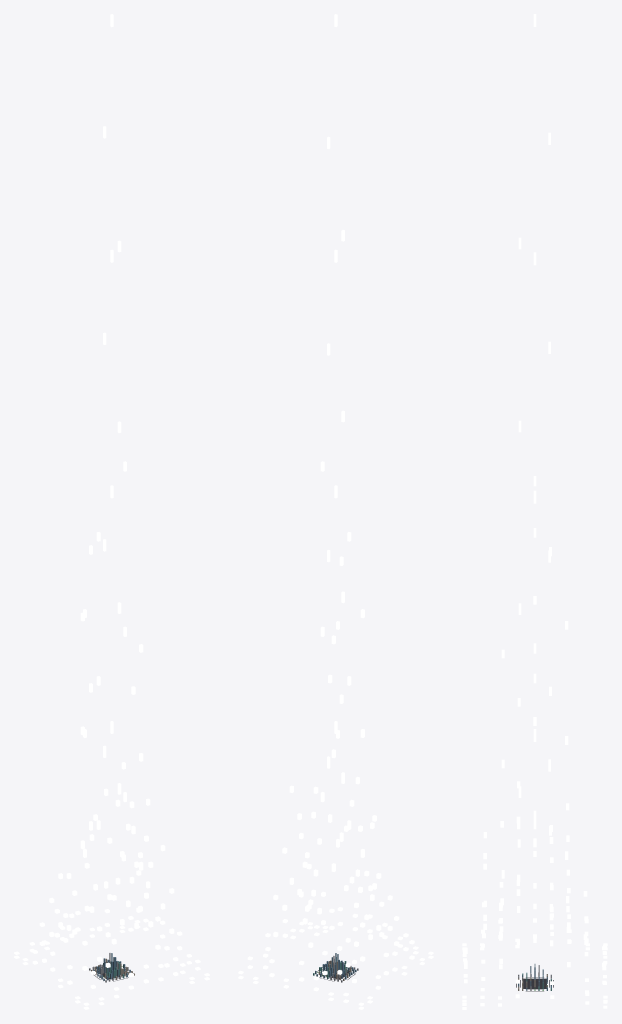
Rendered from city.glb.
The picture shows the model from 3 angles, left to right: view 1: azimuth 30°, elevation 25°; view 2: azimuth 150°, elevation 25°; view 3: azimuth 270°, elevation 25°; orthographic projection.
Bounding box in the file's own units: 391 × 2882 × 391.
